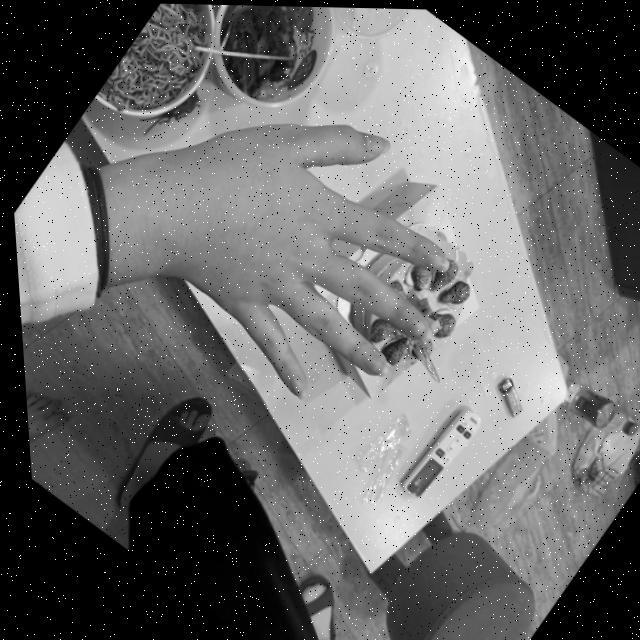no-gloves: (116, 56, 518, 445)
